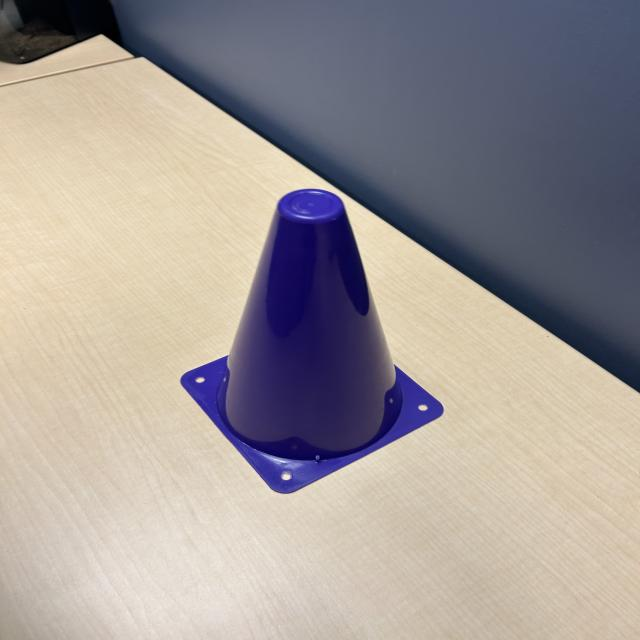purple cone: (173, 182, 454, 499)
